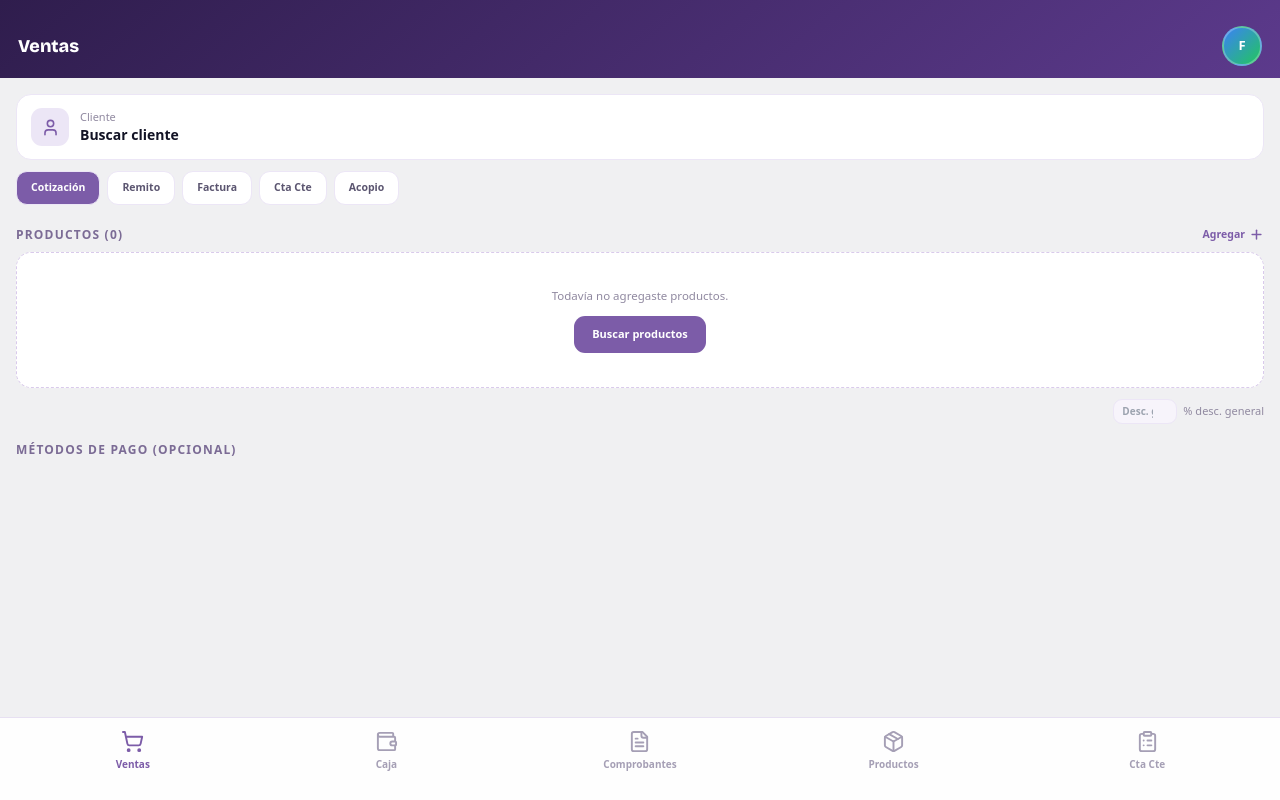
Scenario: MobileShell — cart flow › adds a product from Productos and shows it in Ventas
The image size is (1280, 800).
Click the button "Productos" at point(894, 751), box [767, 726, 1020, 776]
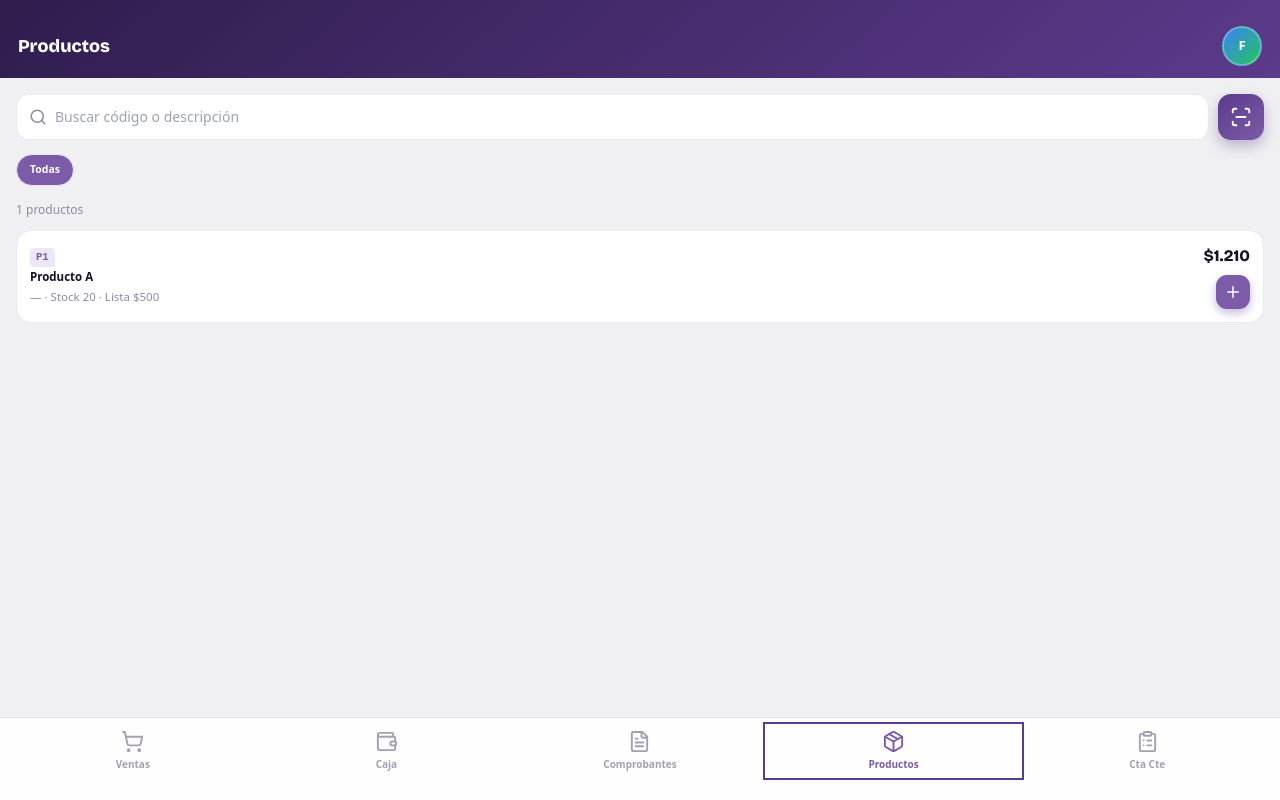
Click the button named "agregar producto a al carrito" at point(1233, 292), box [1216, 275, 1250, 309]
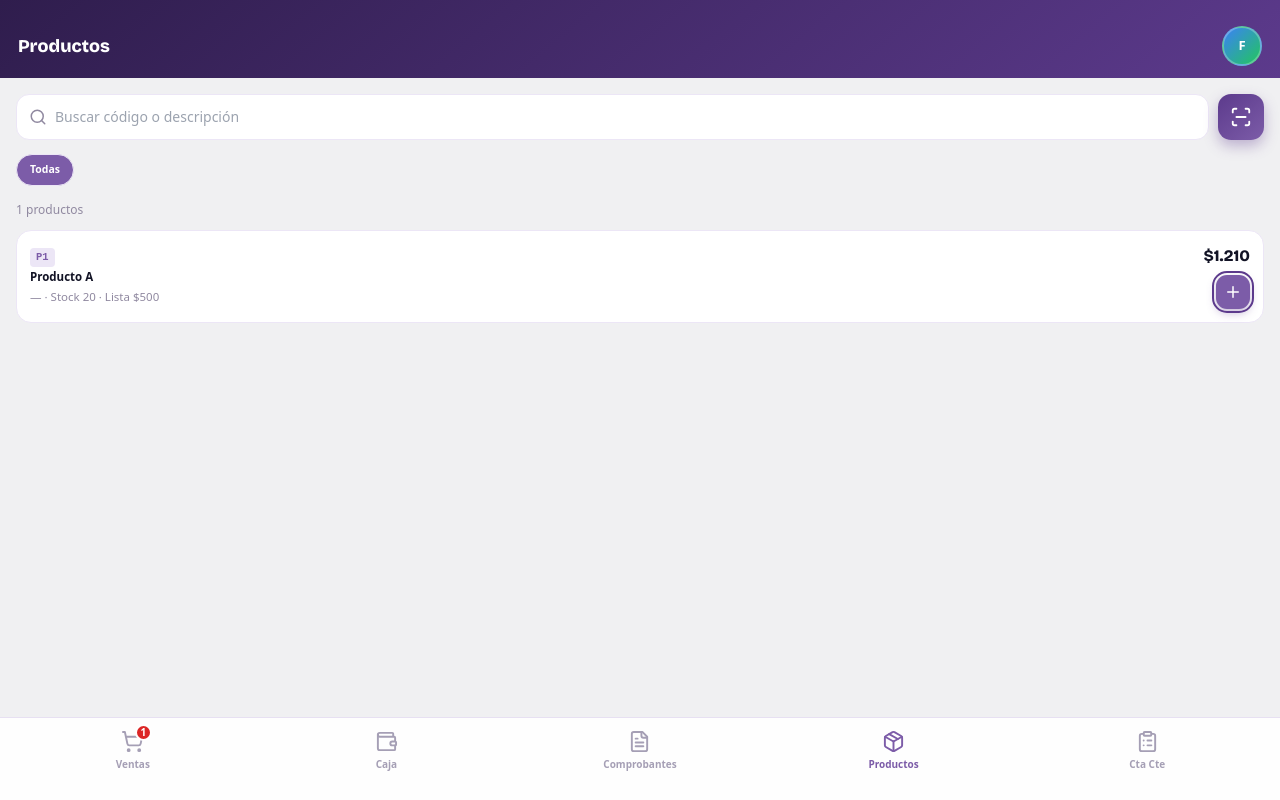
Click the button "1 Ventas" at point(133, 751), box [6, 726, 260, 776]
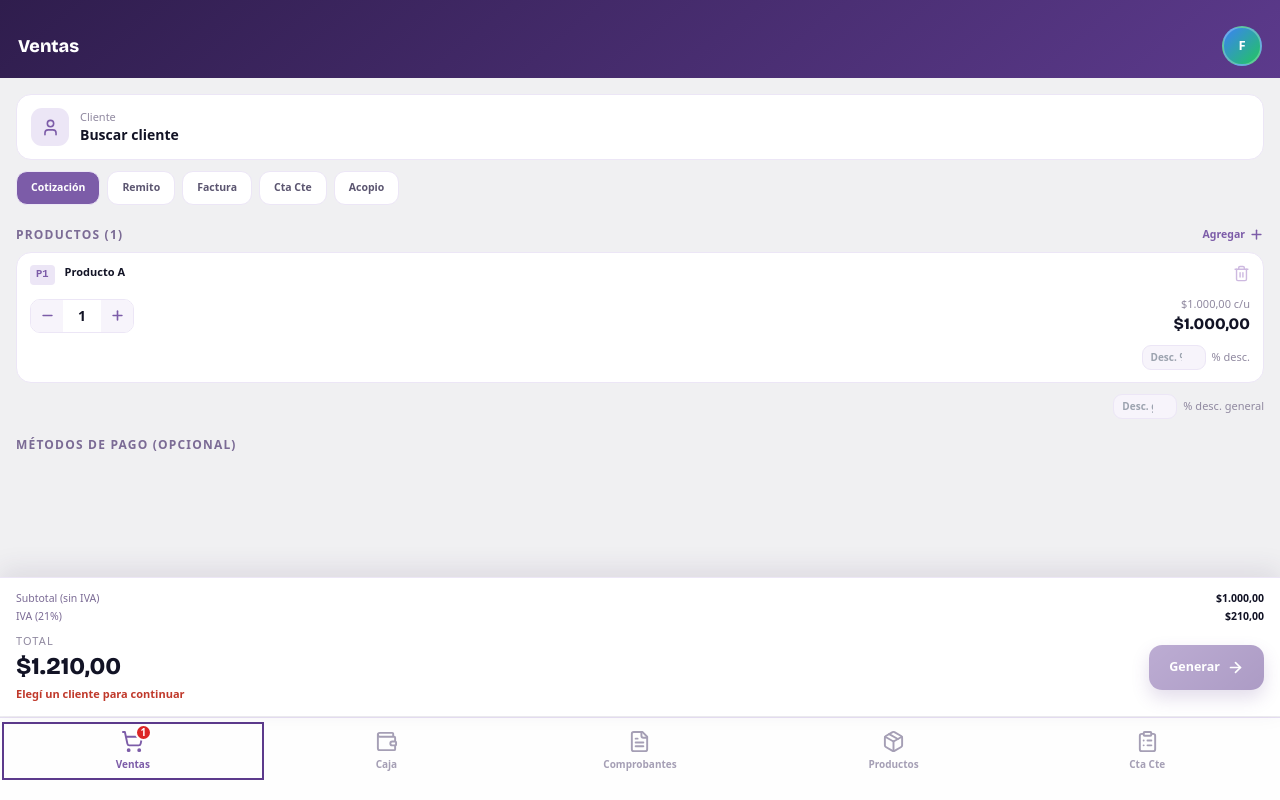
Expected: the text "Producto A" is shown, [65, 264, 125, 279]
Expected: the text "$1.210,00" is shown, [16, 652, 121, 680]
